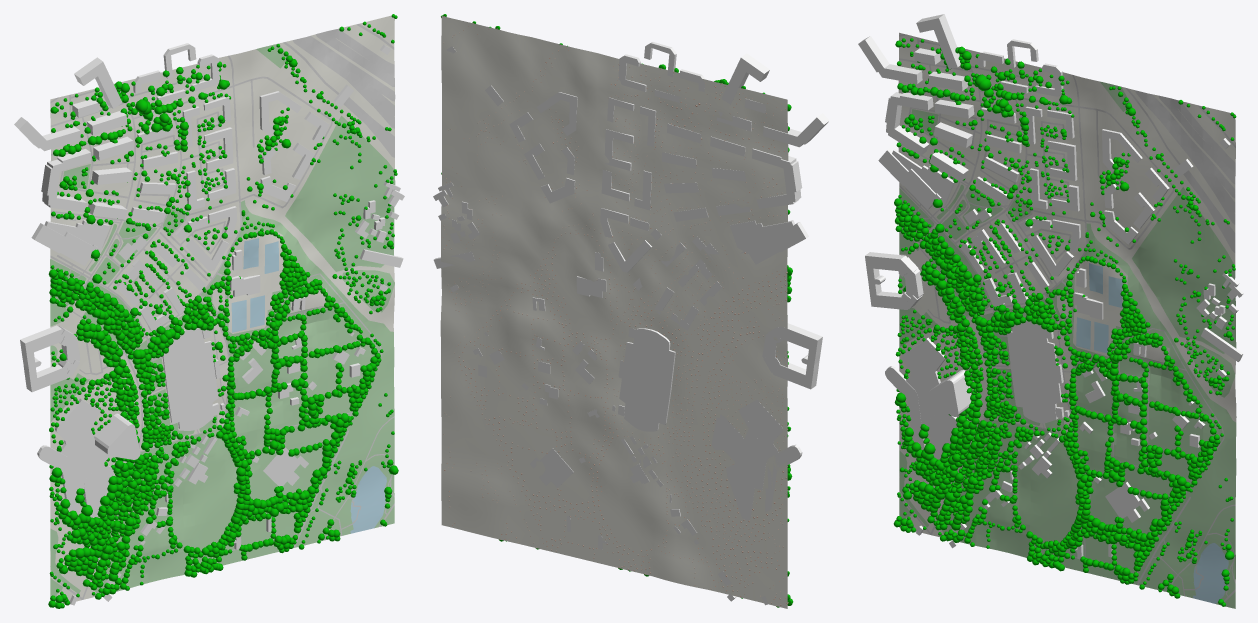
Rendered from east-sports-3d.glb.
3 views of the same model, side by side, from view 1: azimuth 30°, elevation 25°; view 2: azimuth 150°, elevation 25°; view 3: azimuth 330°, elevation 25° (orthographic). The views are drawn at different scales.
Visible parts, largest first — view 1: TPX_GreenAreas, TPX_Ground, TPX_Buildings, TPX_RoadsOutlines, TPX_Waterways_1; view 2: TPX_Ground, TPX_Buildings; view 3: TPX_GreenAreas, TPX_Ground, TPX_Buildings, TPX_RoadsOutlines, TPX_Waterways_1.
Boxes of the visible parts, bbox=[...] form: TPX_GreenAreas: bbox=[50, 43, 395, 600]; TPX_Ground: bbox=[50, 15, 394, 607]; TPX_Buildings: bbox=[14, 43, 404, 605]; TPX_RoadsOutlines: bbox=[50, 24, 395, 599]; TPX_Waterways_1: bbox=[231, 238, 386, 533]; TPX_Ground: bbox=[440, 16, 788, 608]; TPX_Buildings: bbox=[433, 42, 829, 605]; TPX_GreenAreas: bbox=[899, 81, 1236, 608]; TPX_Ground: bbox=[898, 32, 1236, 537]; TPX_Buildings: bbox=[858, 14, 1243, 559]; TPX_RoadsOutlines: bbox=[899, 34, 1235, 605]; TPX_Waterways_1: bbox=[1076, 263, 1228, 603].
Size of the model in its own units: 690 by 922 by 51.73.
